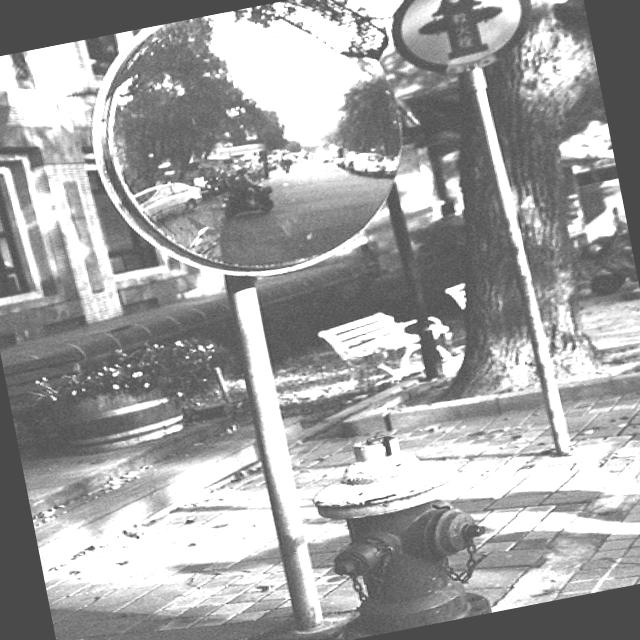Vehicle: (570, 204, 640, 298), (130, 177, 208, 227), (348, 144, 396, 182)
